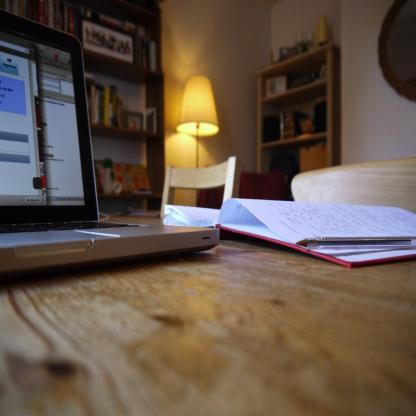board: (0, 7, 220, 276)
